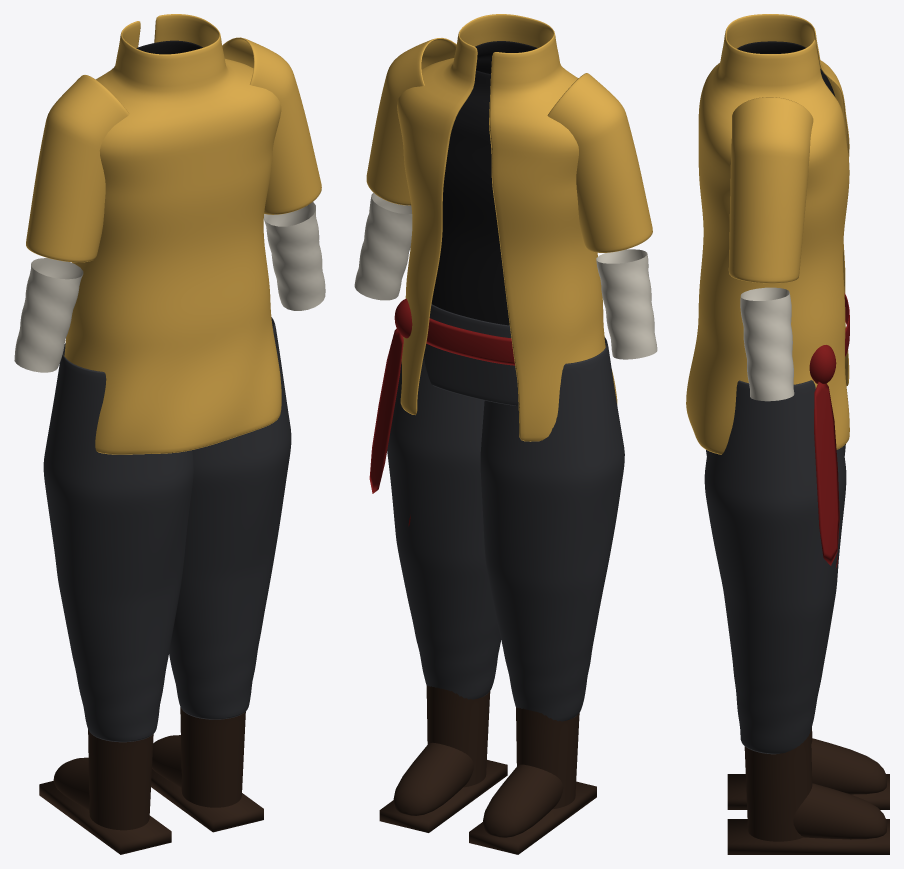
The model's file is tenue_scar_generee.glb.
3 renders of one model, left to right at view 1: azimuth 30°, elevation 25°; view 2: azimuth 150°, elevation 25°; view 3: azimuth 270°, elevation 25°, orthographic. The views are drawn at different scales.
Parts seen in each view (by area): view 1: Veste_Ouverte_Scar, Pantalon_Scar, Manches_Veste_Scar, Bottes_Scar, Bandes_Avant_Bras_R, Semelles_Scar, Bandes_Avant_Bras_L, Maillot_Scar; view 2: Pantalon_Scar, Veste_Ouverte_Scar, Manches_Veste_Scar, Bottes_Scar, Maillot_Scar, Echarpe_Taille_Scar, Bandes_Avant_Bras_R, Semelles_Scar, Bandes_Avant_Bras_L; view 3: Veste_Ouverte_Scar, Pantalon_Scar, Manches_Veste_Scar, Bottes_Scar, Bandes_Avant_Bras_L, Echarpe_Taille_Scar, Semelles_Scar, Maillot_Scar.
Boxes of the visible parts, left/top/right/bottom form: Veste_Ouverte_Scar: left=64, top=14, right=281, bottom=454; Pantalon_Scar: left=43, top=317, right=291, bottom=742; Manches_Veste_Scar: left=26, top=37, right=321, bottom=262; Bottes_Scar: left=53, top=707, right=245, bottom=830; Bandes_Avant_Bras_R: left=14, top=258, right=83, bottom=372; Semelles_Scar: left=39, top=769, right=263, bottom=854; Bandes_Avant_Bras_L: left=263, top=202, right=325, bottom=310; Maillot_Scar: left=136, top=40, right=202, bottom=54; Pantalon_Scar: left=387, top=304, right=624, bottom=721; Veste_Ouverte_Scar: left=397, top=14, right=617, bottom=441; Manches_Veste_Scar: left=366, top=38, right=652, bottom=252; Bottes_Scar: left=393, top=685, right=579, bottom=837; Maillot_Scar: left=431, top=41, right=537, bottom=325; Echarpe_Taille_Scar: left=369, top=298, right=514, bottom=526; Bandes_Avant_Bras_R: left=596, top=249, right=657, bottom=359; Semelles_Scar: left=379, top=760, right=596, bottom=854; Bandes_Avant_Bras_L: left=354, top=192, right=412, bottom=300; Veste_Ouverte_Scar: left=686, top=14, right=849, bottom=454; Pantalon_Scar: left=704, top=380, right=846, bottom=754; Manches_Veste_Scar: left=728, top=97, right=813, bottom=283; Bottes_Scar: left=744, top=727, right=886, bottom=841; Bandes_Avant_Bras_L: left=740, top=287, right=794, bottom=401; Echarpe_Taille_Scar: left=809, top=293, right=849, bottom=568; Semelles_Scar: left=727, top=774, right=889, bottom=854; Maillot_Scar: left=737, top=41, right=835, bottom=96.
Bounding box in the file's own units: 0.6317 × 1.55 × 0.3639.
